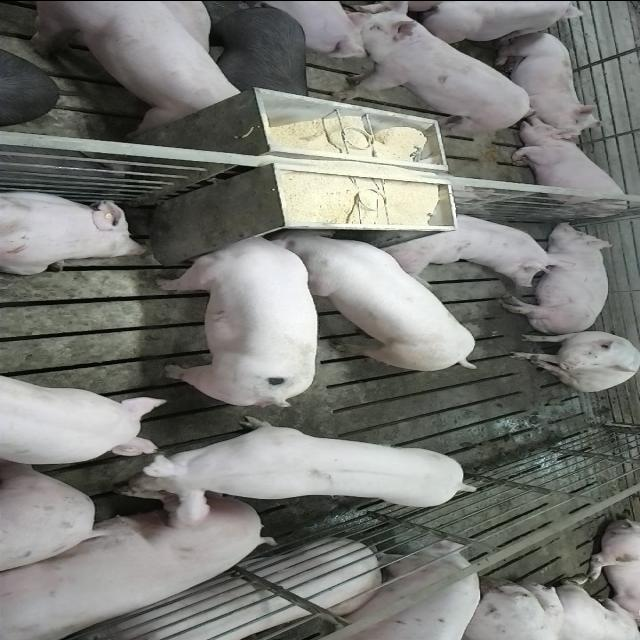Feeding: (269, 228, 480, 376), (156, 231, 320, 411)
Lateral_lying: (0, 488, 272, 640), (49, 538, 382, 640), (500, 222, 616, 334)
Sitting: (506, 127, 638, 216), (506, 328, 638, 391)
Standing: (122, 416, 482, 514), (25, 2, 246, 132), (322, 5, 530, 136), (290, 541, 480, 640), (0, 360, 167, 462), (200, 3, 314, 97)
Sternal_lying: (381, 208, 567, 284), (0, 187, 150, 275), (489, 30, 602, 138)
